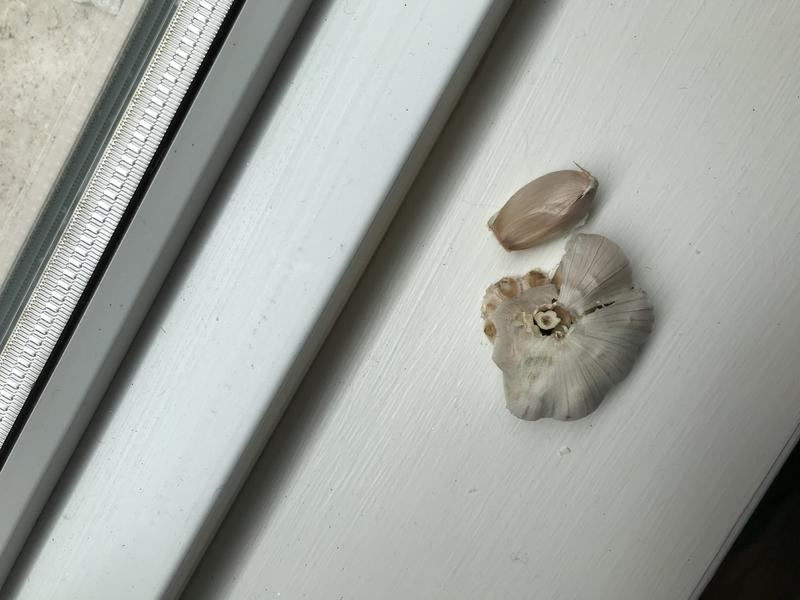garlic: (479, 229, 668, 440), (486, 161, 606, 253)
